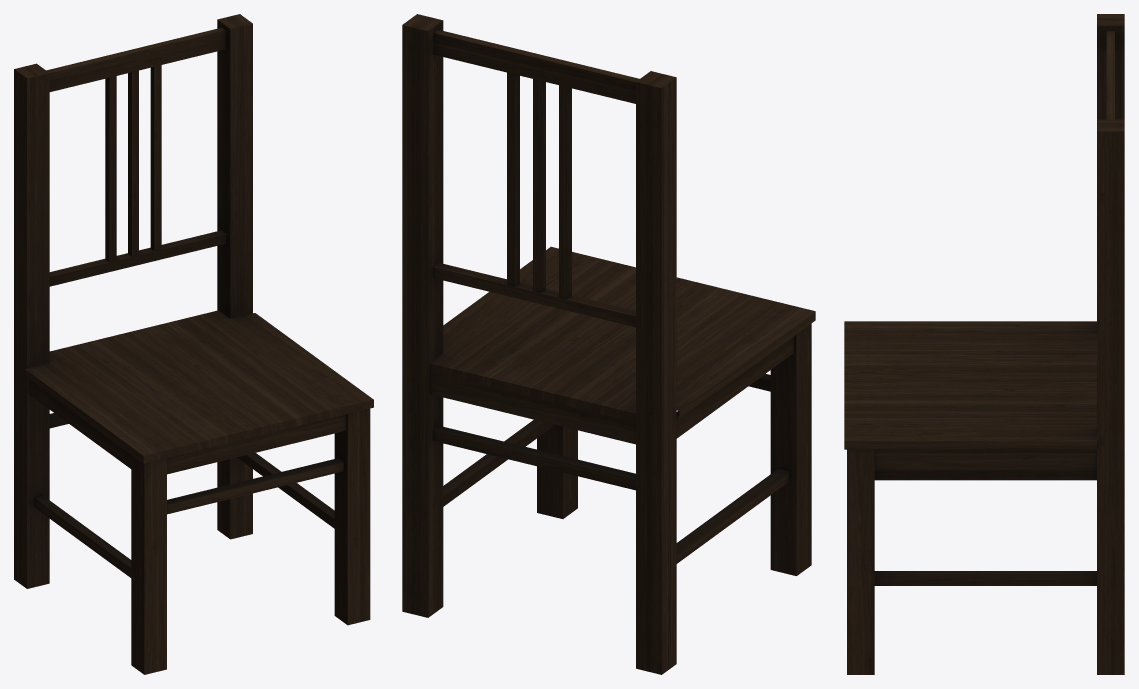
File: chair.obj
The picture shows the model from 3 angles, left to right: view 1: azimuth 30°, elevation 25°; view 2: azimuth 150°, elevation 25°; view 3: azimuth 270°, elevation 25°; orthographic projection. The views are drawn at different scales.
Parts seen in each view (by area): view 1: Chair_chair; view 2: Chair_chair; view 3: Chair_chair.
Boxes of the visible parts, x1,y1,x2,y2 form: Chair_chair: [14, 14, 373, 674]; Chair_chair: [402, 14, 815, 674]; Chair_chair: [844, 14, 1124, 674].
Bounding box in the file's own units: 1.02 × 2.16 × 1.01.
Materials: 1 (1 with a texture image).
